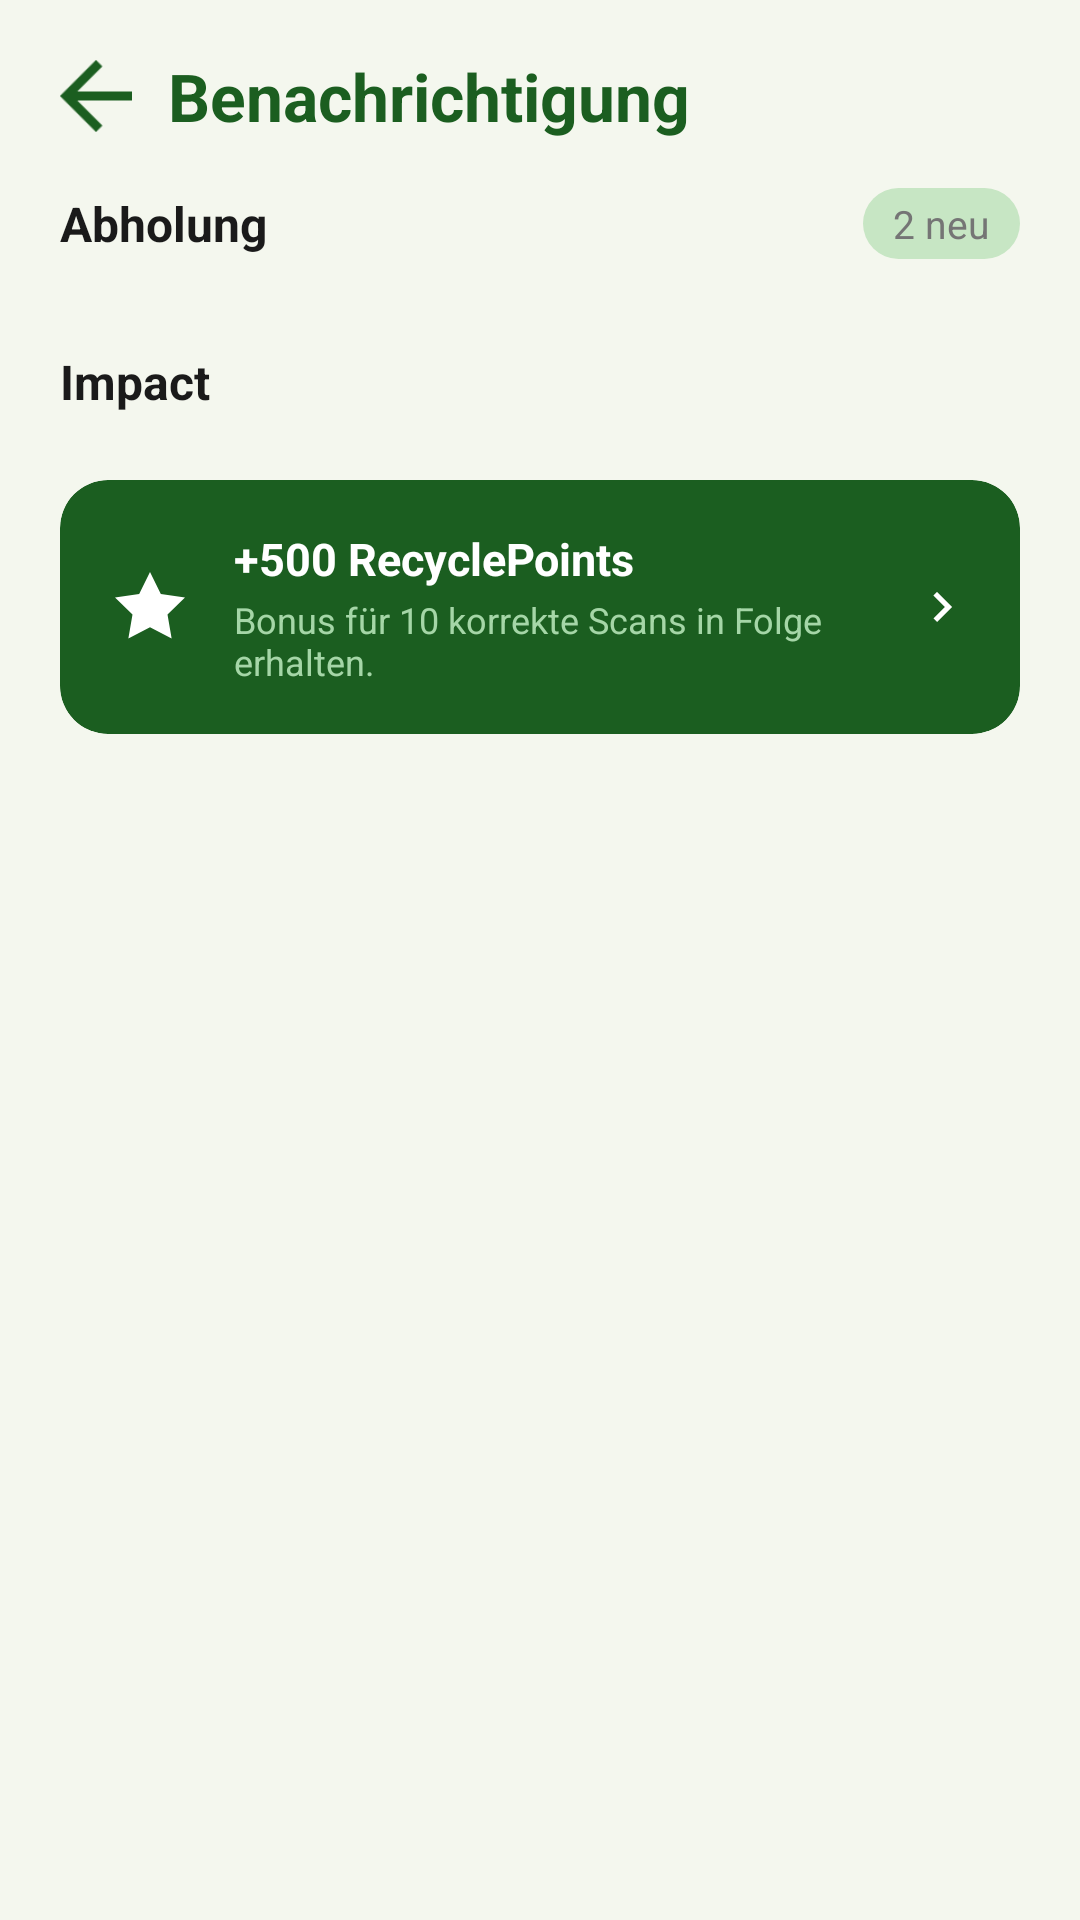

Named icons in this screenshot (1080 x 1920) and their bounding boxes, (x1, y1, x2, y2):
chevron right: (933, 592, 952, 622)
Zurück: (60, 60, 132, 132)
